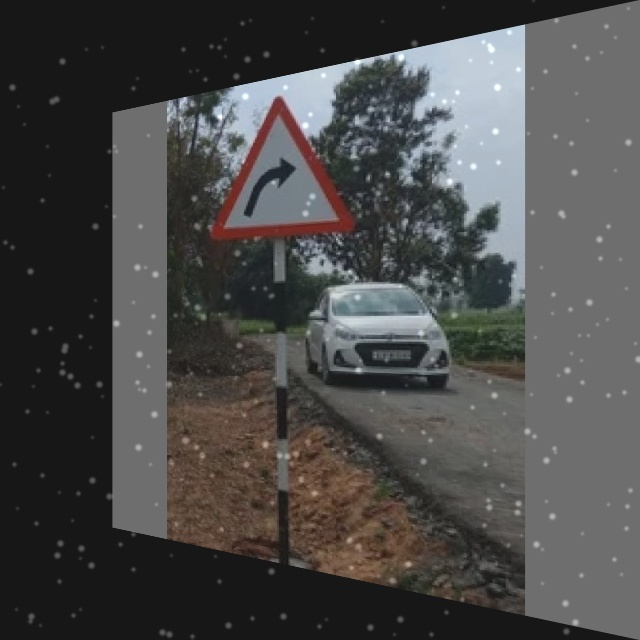Right_Hand_Curve: (212, 83, 352, 239)
